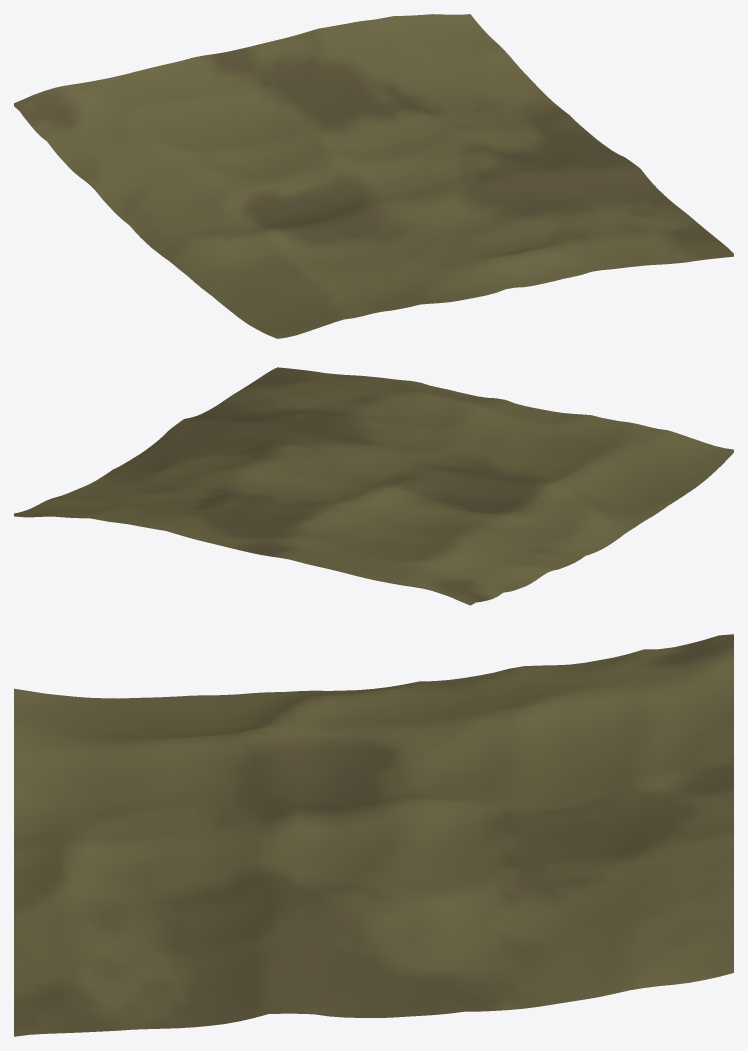
Rendered from land_m_05_08.glb.
3 views of the same model, one above another, from view 1: azimuth 30°, elevation 25°; view 2: azimuth 150°, elevation 25°; view 3: azimuth 270°, elevation 25° (orthographic). The views are drawn at different scales.
Visible parts, largest first — view 1: land_m_05_08; view 2: land_m_05_08; view 3: land_m_05_08.
Boxes of the visible parts, box(x1,y1,x2,y2) form: land_m_05_08: box(14, 14, 733, 338); land_m_05_08: box(14, 367, 733, 605); land_m_05_08: box(14, 634, 733, 1036).
Size of the model in its own units: 960 by 155 by 960.
